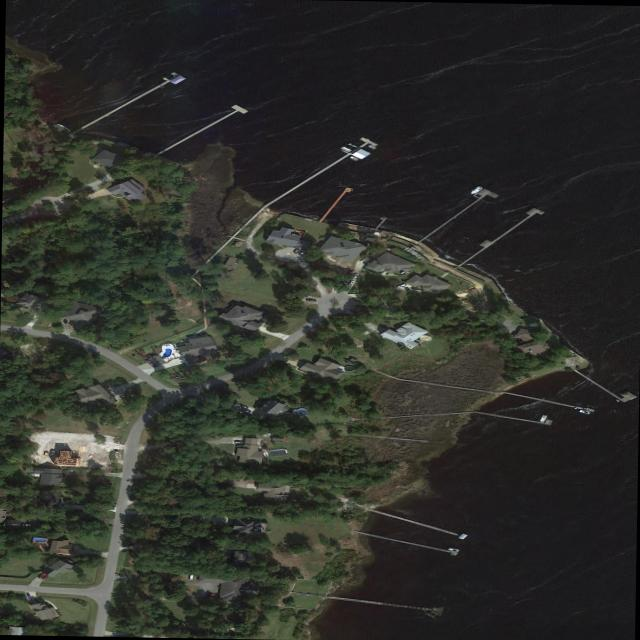ship: (467, 184, 484, 196), (339, 146, 352, 153), (359, 257, 371, 264), (538, 414, 548, 422), (579, 409, 592, 415), (395, 283, 407, 289), (446, 547, 460, 552), (349, 155, 359, 161), (367, 145, 376, 149)
small-vehicle: (304, 298, 317, 302), (348, 280, 355, 286), (298, 250, 306, 255), (41, 574, 49, 579), (37, 573, 46, 577), (206, 593, 218, 596), (233, 409, 242, 413), (241, 405, 250, 409), (21, 523, 32, 526), (34, 598, 40, 603), (28, 598, 34, 603), (188, 574, 193, 580), (234, 441, 244, 444), (352, 273, 358, 278), (243, 410, 252, 413), (26, 593, 31, 598), (50, 450, 55, 455), (63, 319, 68, 324)
